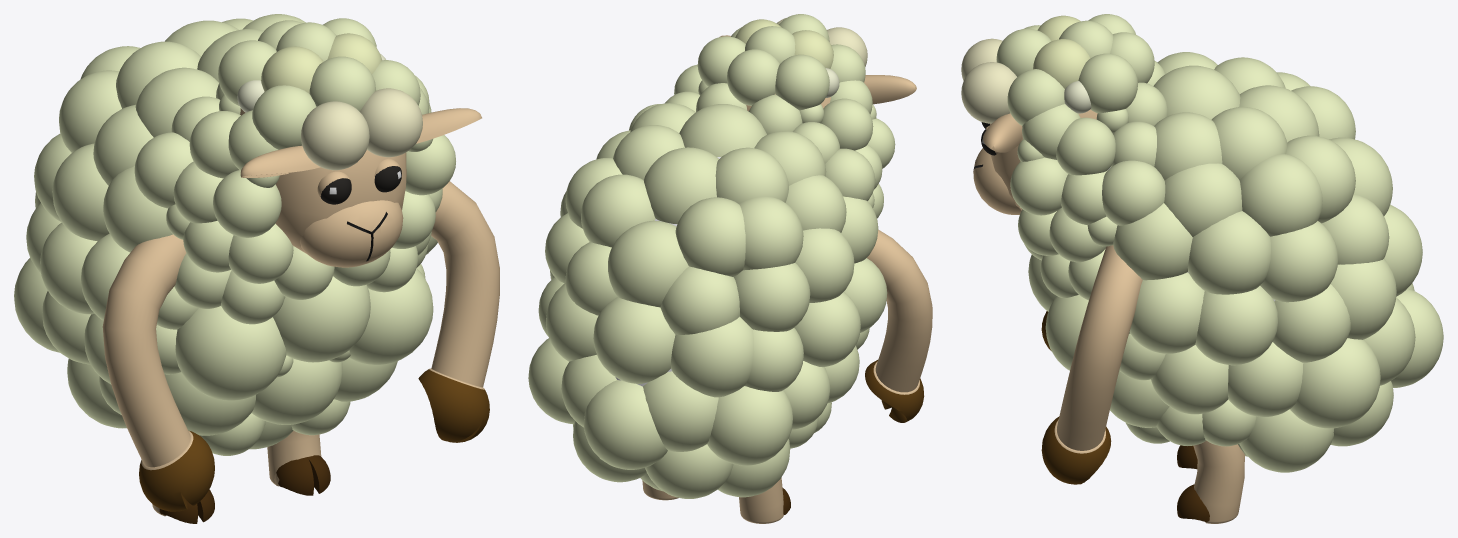
Rendered from sheep.glb.
3 renders of one model, left to right at view 1: azimuth 30°, elevation 25°; view 2: azimuth 150°, elevation 25°; view 3: azimuth 270°, elevation 25°, orthographic. The views are drawn at different scales.
Visible parts, largest first — view 1: 羊うで.001, 球.137, 球.096, 球.134, 球.100, 立方体.014, 球.114, 球.139, 球.101, 球.098, 球.135, 球.092 (+38 smaller); view 2: 球.127, 羊うで.001, 球.149, 球.150, 球.128, 球.152, 球.146, 球.126, 球.129, 球.143, 球.155, 球.125 (+29 smaller); view 3: 羊うで.001, 球.150, 球.143, 球.144, 球.127, 球.126, 球.145, 球.130, 球.092, 球.146, 球.147, 球.121 (+43 smaller).
Part boxes in pixels (x1=…): 羊うで.001: x1=102, y1=181, x2=499, y2=511; 球.137: x1=175, y1=268, x2=433, y2=400; 球.096: x1=301, y1=88, x2=422, y2=170; 球.134: x1=273, y1=276, x2=370, y2=362; 球.100: x1=213, y1=135, x2=455, y2=237; 立方体.014: x1=240, y1=108, x2=406, y2=253; 球.114: x1=300, y1=200, x2=403, y2=267; 球.139: x1=164, y1=358, x2=397, y2=435; 球.101: x1=228, y1=191, x2=435, y2=283; 球.098: x1=252, y1=60, x2=420, y2=149; 球.135: x1=251, y1=358, x2=342, y2=424; 球.092: x1=152, y1=430, x2=330, y2=523; 球.127: x1=581, y1=174, x2=745, y2=276; 羊うで.001: x1=865, y1=229, x2=932, y2=422; 球.149: x1=546, y1=283, x2=754, y2=397; 球.150: x1=528, y1=338, x2=792, y2=465; 球.128: x1=565, y1=242, x2=739, y2=334; 球.152: x1=561, y1=354, x2=718, y2=451; 球.146: x1=545, y1=213, x2=810, y2=331; 球.126: x1=613, y1=125, x2=788, y2=203; 球.129: x1=593, y1=297, x2=675, y2=383; 球.143: x1=565, y1=158, x2=803, y2=270; 球.155: x1=583, y1=380, x2=667, y2=469; 球.125: x1=608, y1=220, x2=688, y2=307; 羊うで.001: x1=1041, y1=245, x2=1142, y2=484; 球.150: x1=1290, y1=338, x2=1380, y2=428; 球.143: x1=1239, y1=72, x2=1322, y2=236; 球.144: x1=1187, y1=211, x2=1270, y2=294; 球.127: x1=1286, y1=86, x2=1355, y2=223; 球.126: x1=1211, y1=57, x2=1287, y2=180; 球.145: x1=1195, y1=286, x2=1277, y2=365; 球.130: x1=1129, y1=272, x2=1204, y2=353; 球.092: x1=1177, y1=440, x2=1244, y2=523; 球.146: x1=1260, y1=221, x2=1338, y2=302; 球.147: x1=1272, y1=284, x2=1350, y2=362; 球.121: x1=1154, y1=52, x2=1222, y2=180.
Size of the model in its own units: 4.28 by 5.49 by 5.15.
